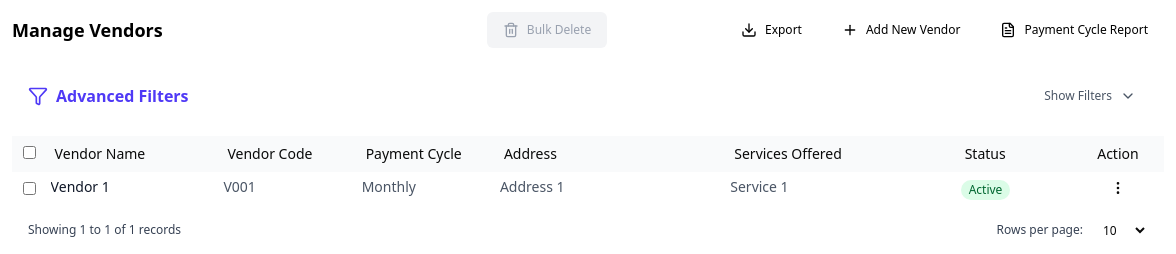
Test: VendorsContent - Additional Coverage Tests › Selection Functionality › enables bulk delete button when vendors are selected
Check: the text "Vendor 1" is shown, box [51,176,110,196]
Click the checkbox named "Select Vendor 1".
click(29, 188)  # box [23,182,36,195]
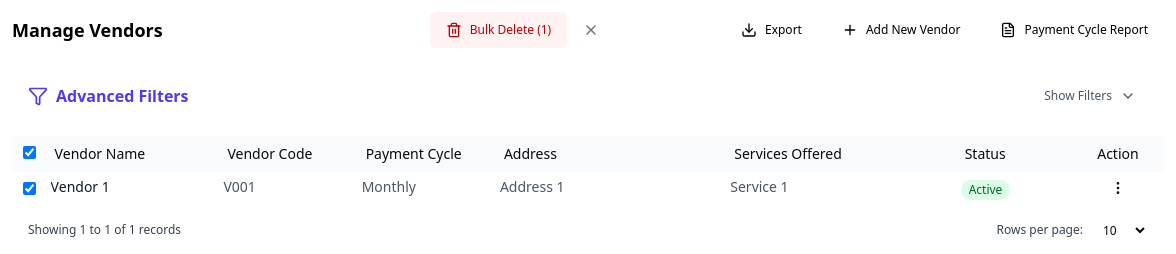
Check: the button "Bulk Delete (1)" is enabled, box [430,12,567,48]
